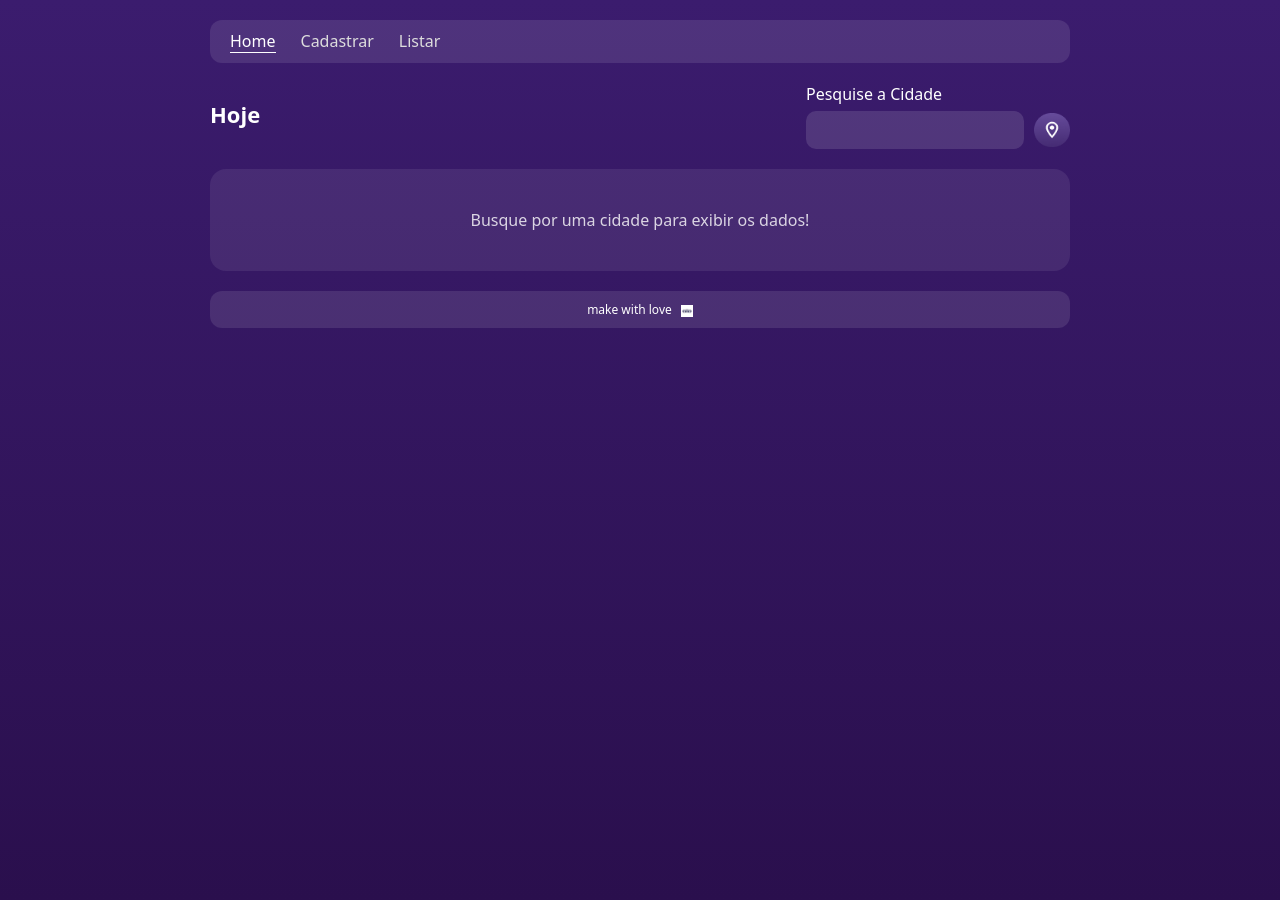
Test: Home › deve mostrar loading
Step 1. Type "Canoas" into the field → coordinates (915, 130), box 806,111 -> 1024,149
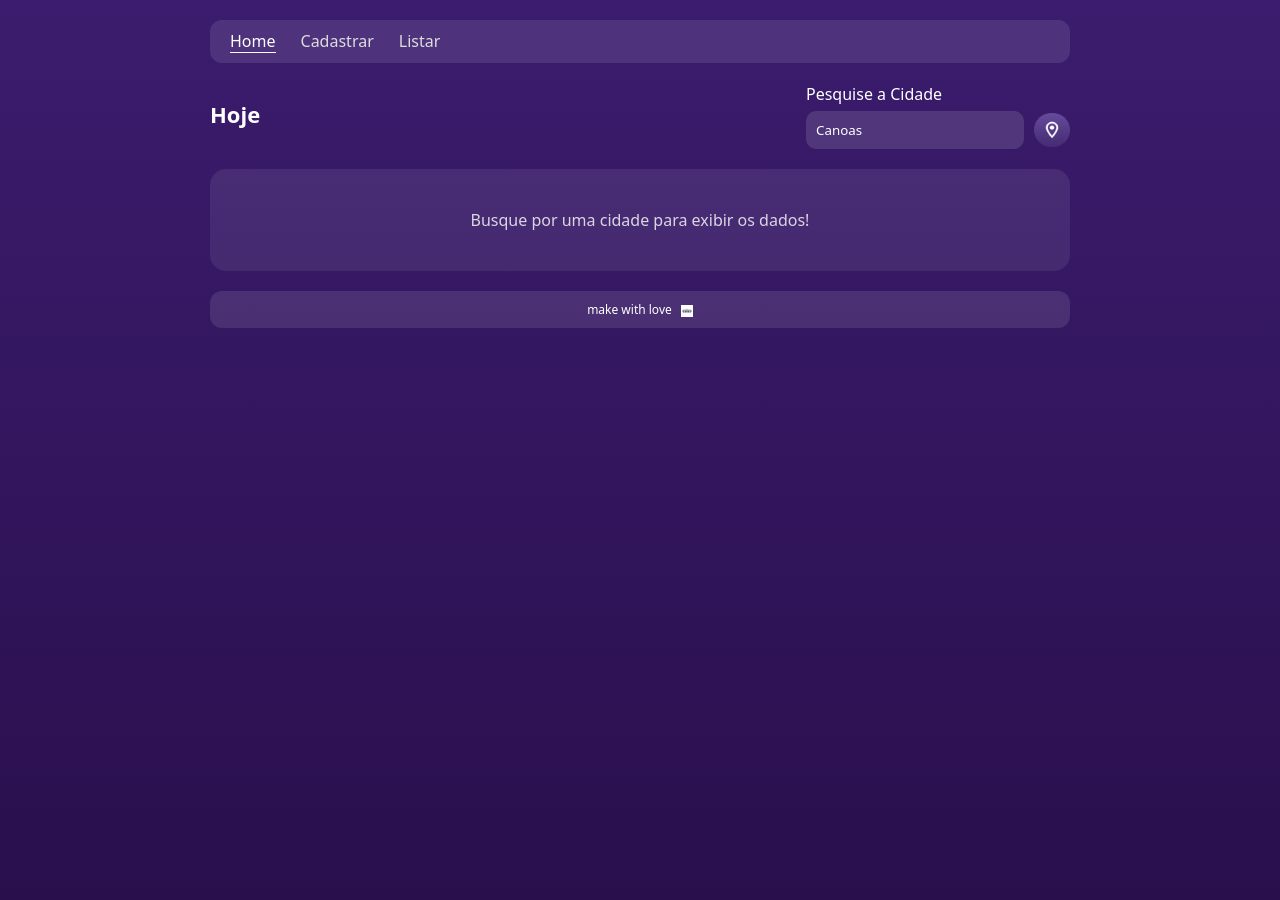
Step 2. Click the picture with alt text "buscar" → coordinates (1052, 130), box 1034,113 -> 1070,147
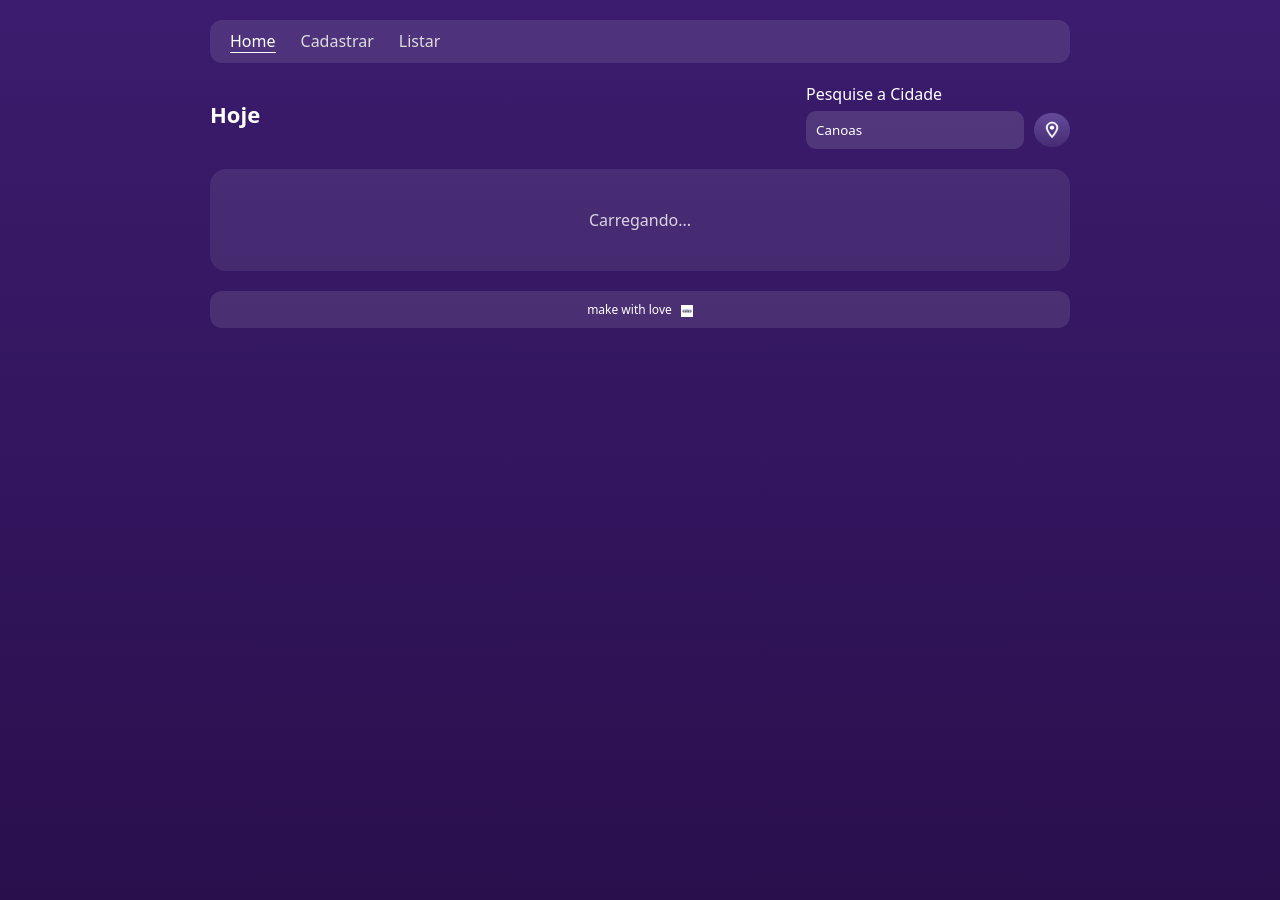
Result: the text "Carregando..." is shown at 589,209 -> 691,231
